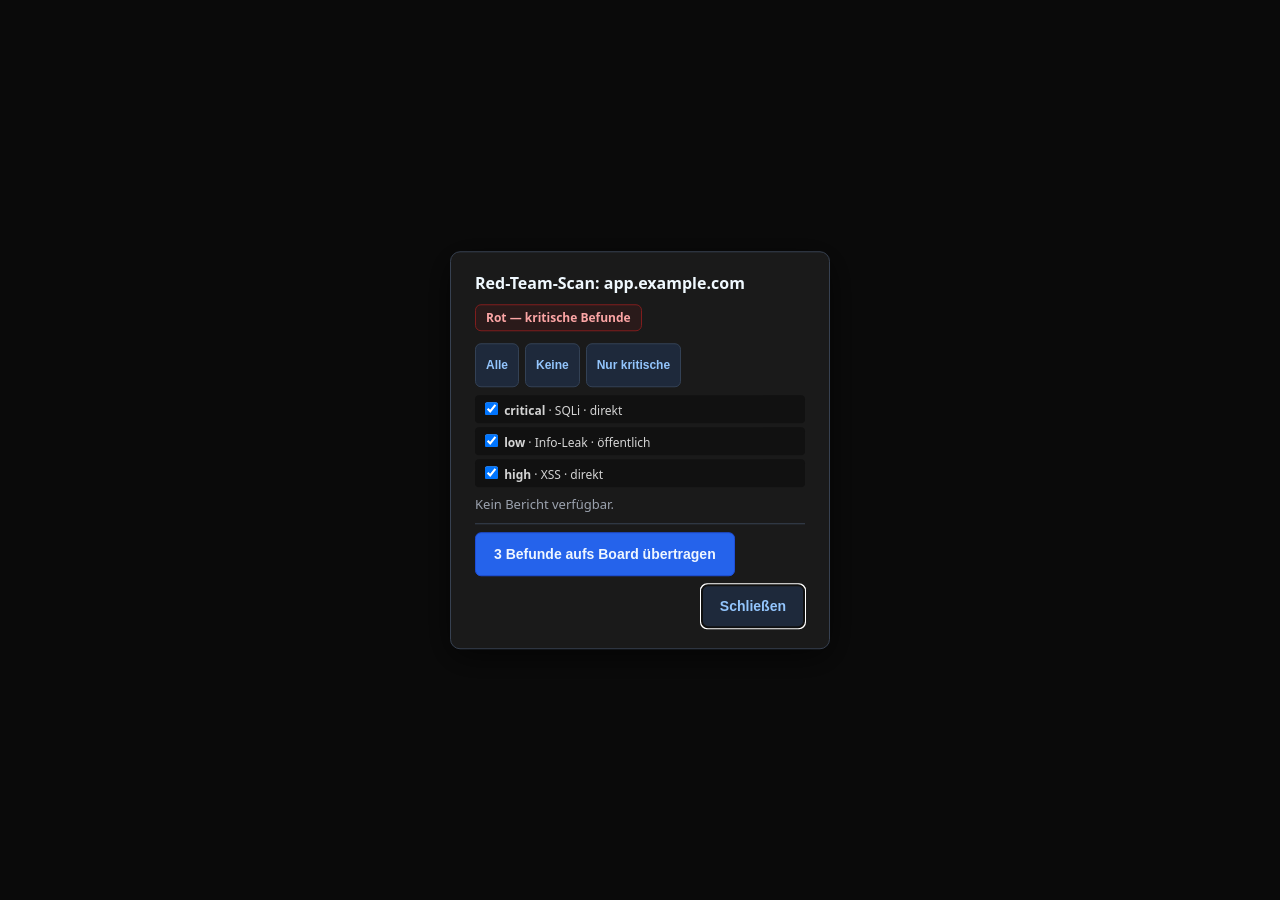
Test case: RedTeamScanPanel — AC18: Befundliste mit Vorauswahl › Schnellwahl "Keine" hakt alle ab, "Alle" wieder alle an
Expected: the button with test id "redteam-board-transfer-btn" shows "3 Befunde", [475,532,735,576]
What coordinates should you click on to do the following:
click the button with test id "redteam-select-none"
I would click on:
 (552, 365)
Its box is [525,343,580,387].
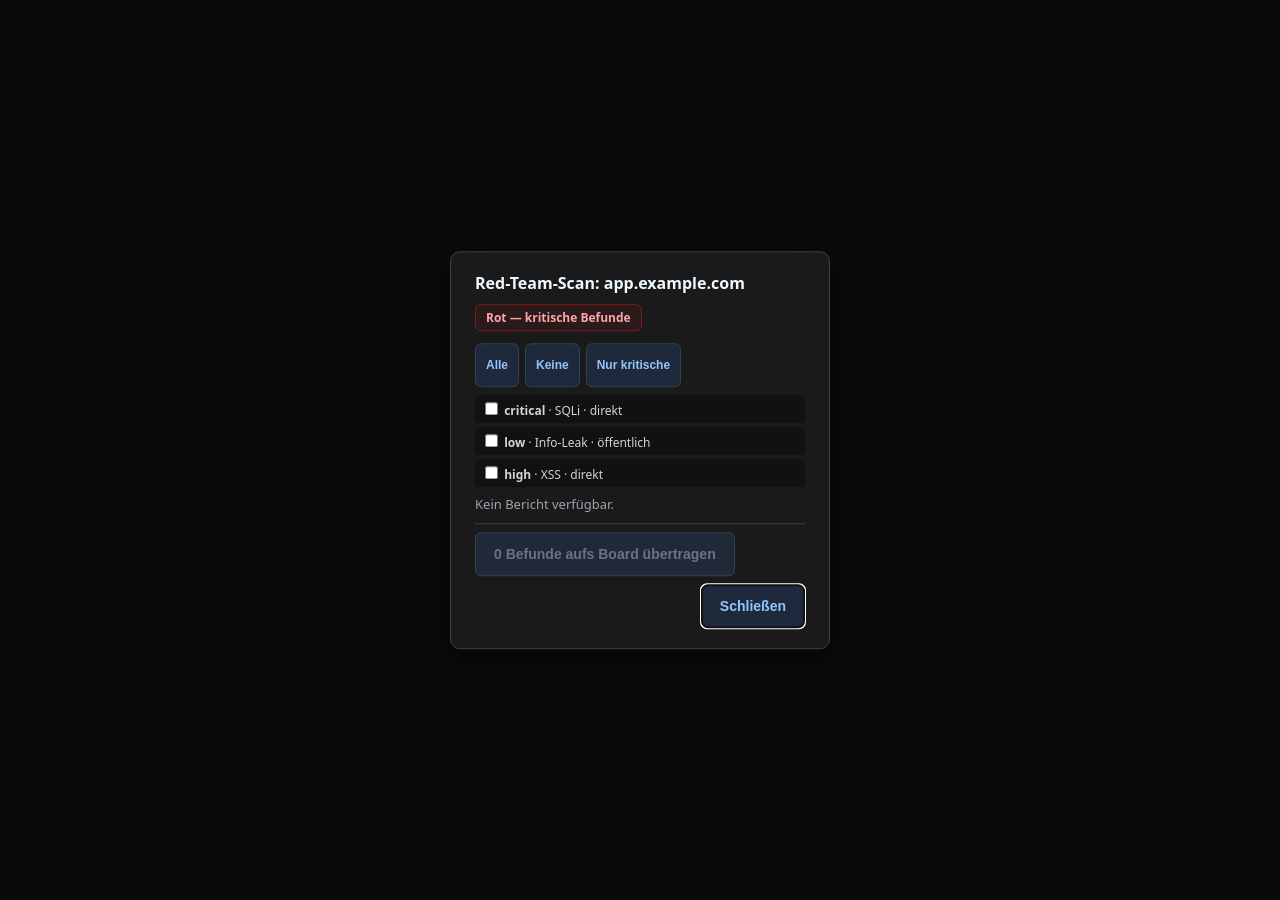
Expected: the checkbox with test id "redteam-finding-checkbox-f1" is not checked, [485,402,498,415]
Expected: the checkbox with test id "redteam-finding-checkbox-f2" is not checked, [485,434,498,447]
Expected: the checkbox with test id "redteam-finding-checkbox-f3" is not checked, [485,466,498,479]
What coordinates should you click on to do the following:
click the button with test id "redteam-select-all"
I would click on:
 (497, 365)
Its box is [475,343,519,387].
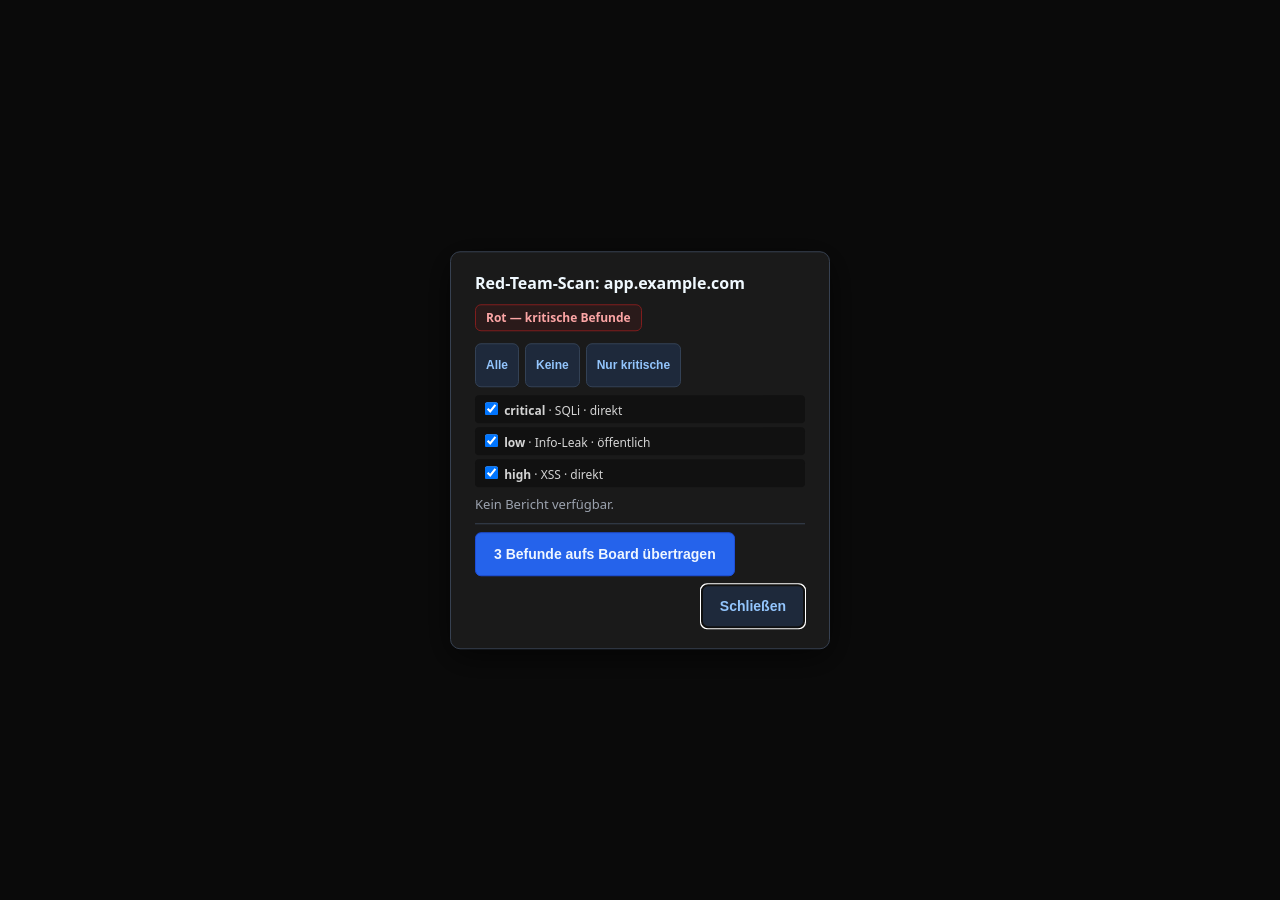
Expected: the checkbox with test id "redteam-finding-checkbox-f1" is checked, [485,402,498,415]
Expected: the checkbox with test id "redteam-finding-checkbox-f2" is checked, [485,434,498,447]
Expected: the checkbox with test id "redteam-finding-checkbox-f3" is checked, [485,466,498,479]
